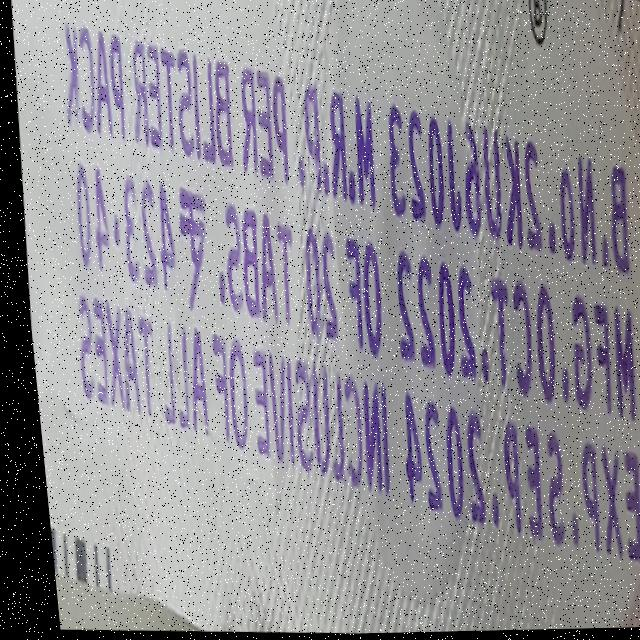sentence: (69, 148, 630, 426), (73, 296, 631, 567), (63, 27, 625, 267)
